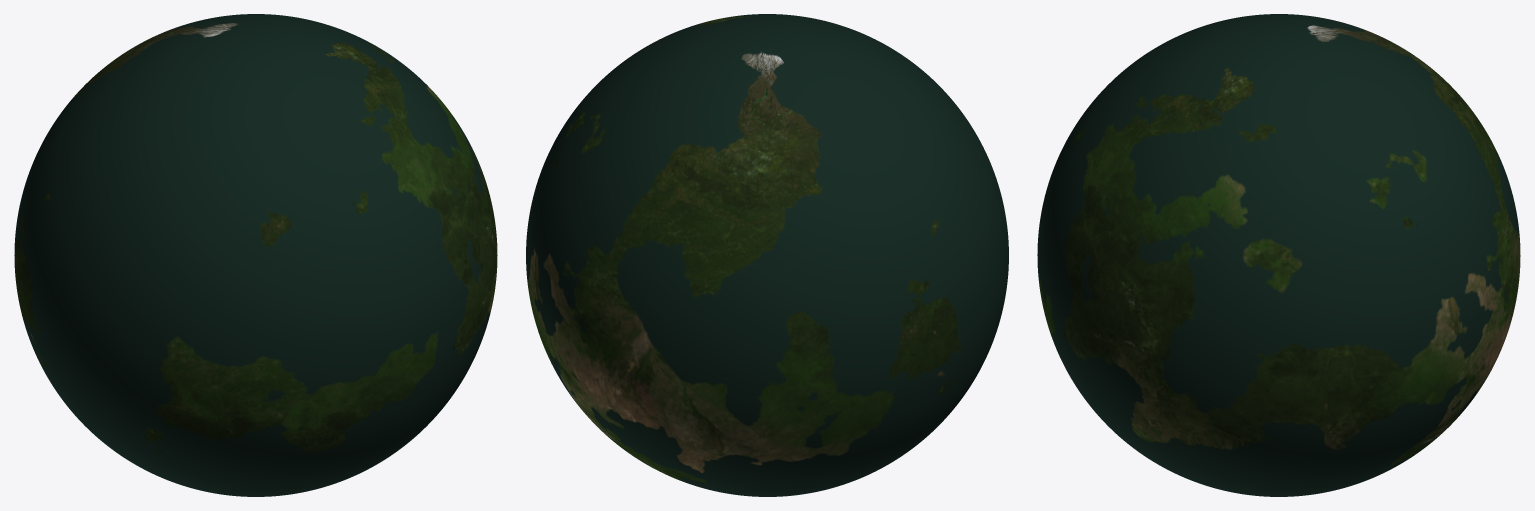
Rendered from ramaxis.FBX.
The picture shows the model from 3 angles, left to right: view 1: azimuth 30°, elevation 25°; view 2: azimuth 150°, elevation 25°; view 3: azimuth 270°, elevation 25°; orthographic projection.
Visible parts, largest first — view 1: Planet; view 2: Planet; view 3: Planet.
Boxes of the visible parts, x1,y1,x2,y2 form: Planet: (14, 14, 497, 496); Planet: (526, 14, 1008, 496); Planet: (1037, 14, 1520, 496).
Bounding box in the file's own units: 74999 × 74998 × 75000.
Materials: 1 (1 with a texture image).
